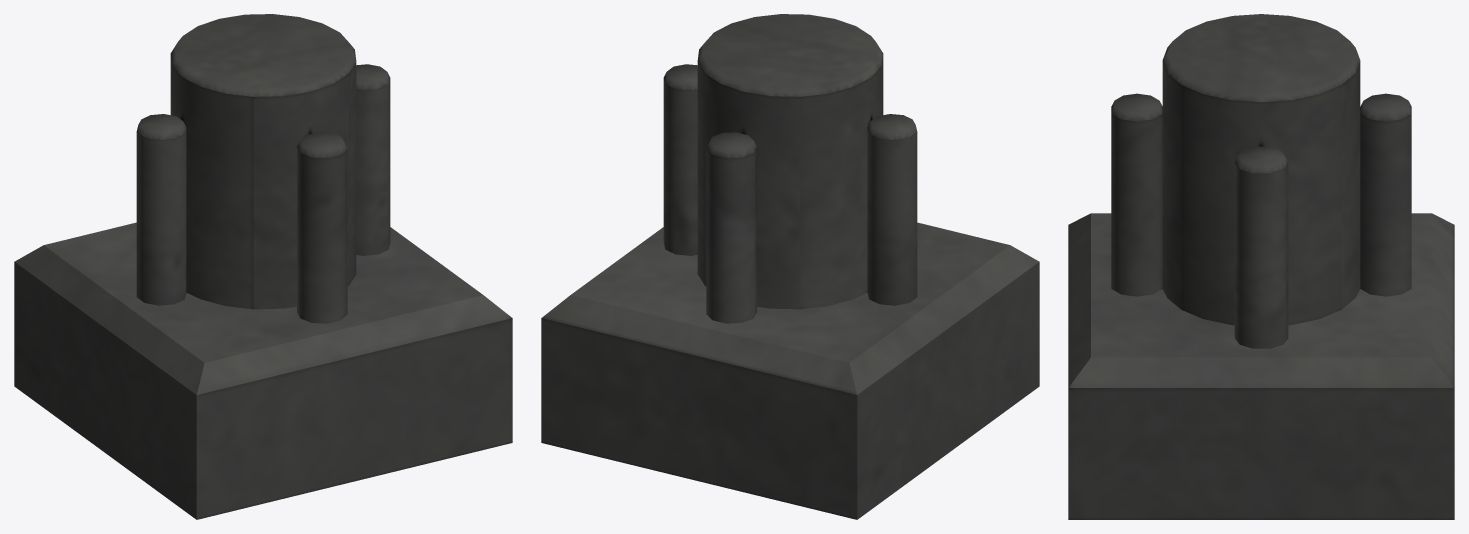
Rendered from CryoRegulator.fbx.
3 views of the same model, side by side, from view 1: azimuth 30°, elevation 25°; view 2: azimuth 150°, elevation 25°; view 3: azimuth 270°, elevation 25° (orthographic). The views are drawn at different scales.
Visible parts, largest first — view 1: Cryo_Regulator; view 2: Cryo_Regulator; view 3: Cryo_Regulator.
Boxes of the visible parts, x1,y1,x2,y2 form: Cryo_Regulator: (14, 14, 512, 519); Cryo_Regulator: (541, 14, 1039, 519); Cryo_Regulator: (1068, 14, 1454, 519).
Size of the model in its own units: 129 by 141 by 129.
